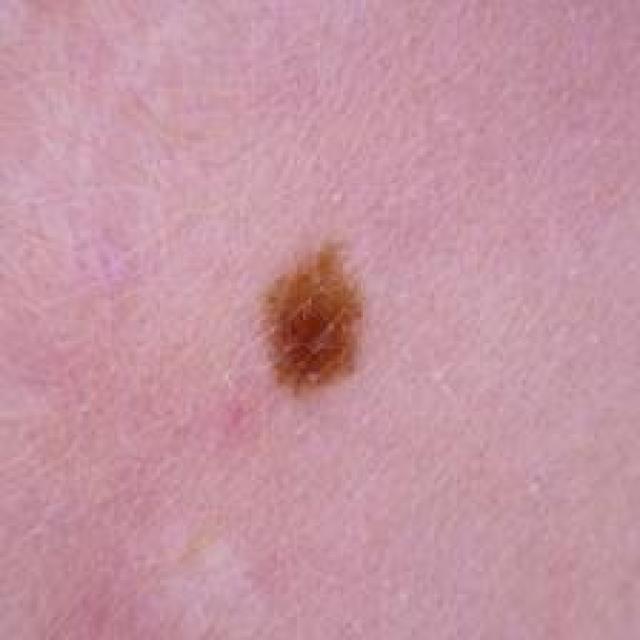Cancer: (254, 240, 366, 394)
